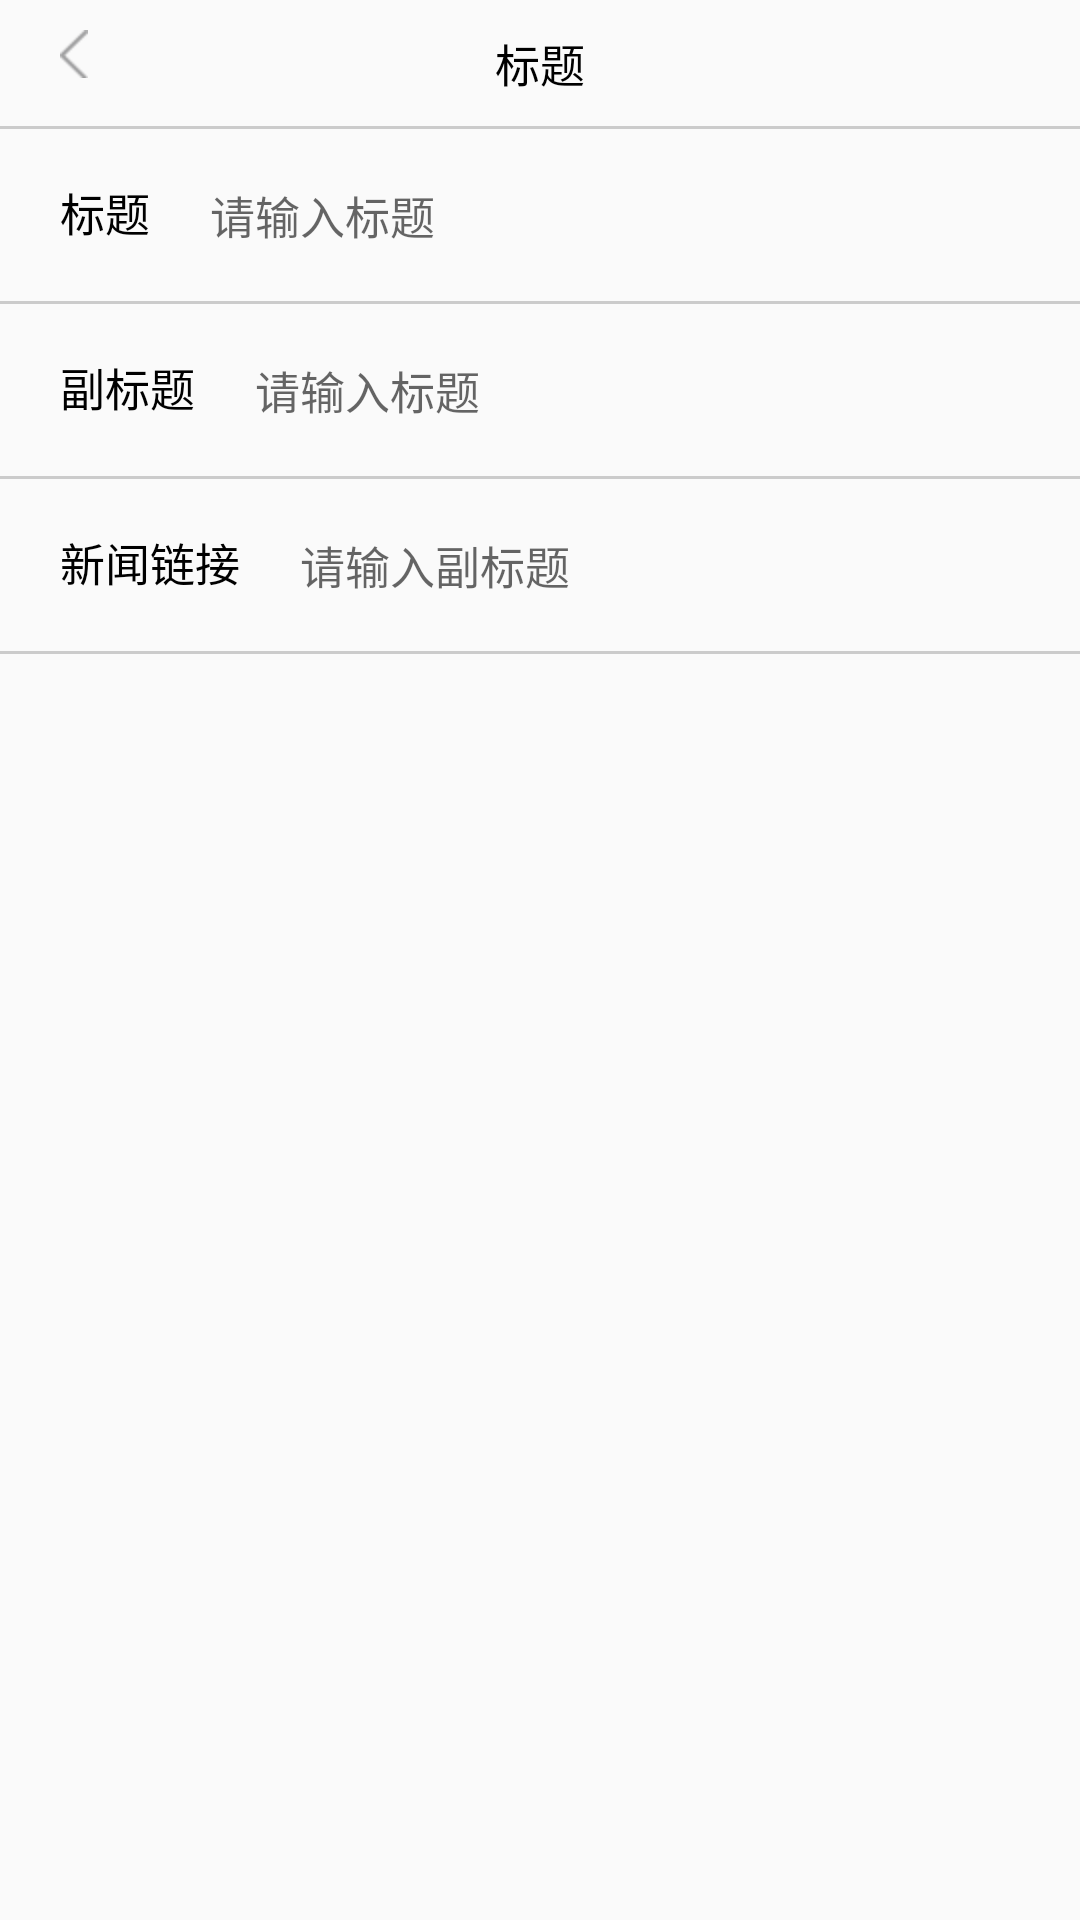

Where to tap for icons on this 1080px x 1920px app screen, as (x=x, y=y):
back: (x=74, y=54)
